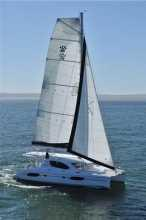fanchuan: (13, 11, 133, 191)
